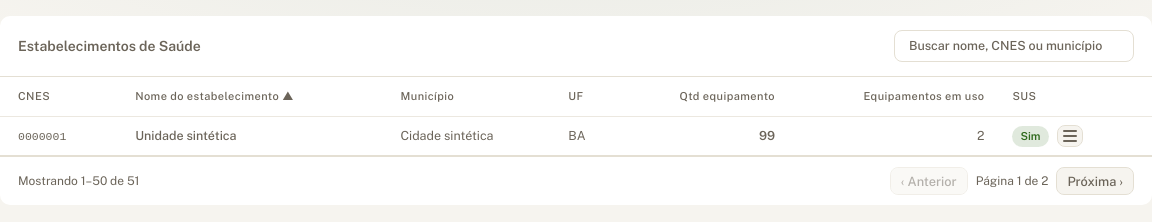
estabelecimentos com transporte, hook e schema reais › exibe dados cadastrais sem confundir quantidade existente com em uso e pagina no servidor
Expected: the text "99" is shown, [614, 117, 785, 156]
Expected: the text "2" is shown, [785, 117, 994, 156]
Click the button with aria-label "Próxima página" at x=1095, y=181, box [1056, 167, 1134, 195]
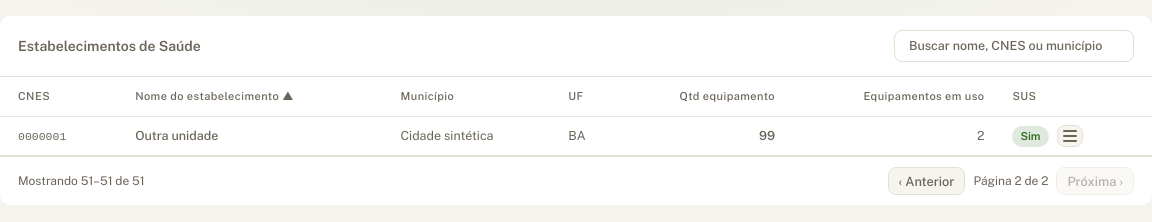
Now the text "Mostrando 51–51 de 51" is shown, box [18, 173, 145, 189]
